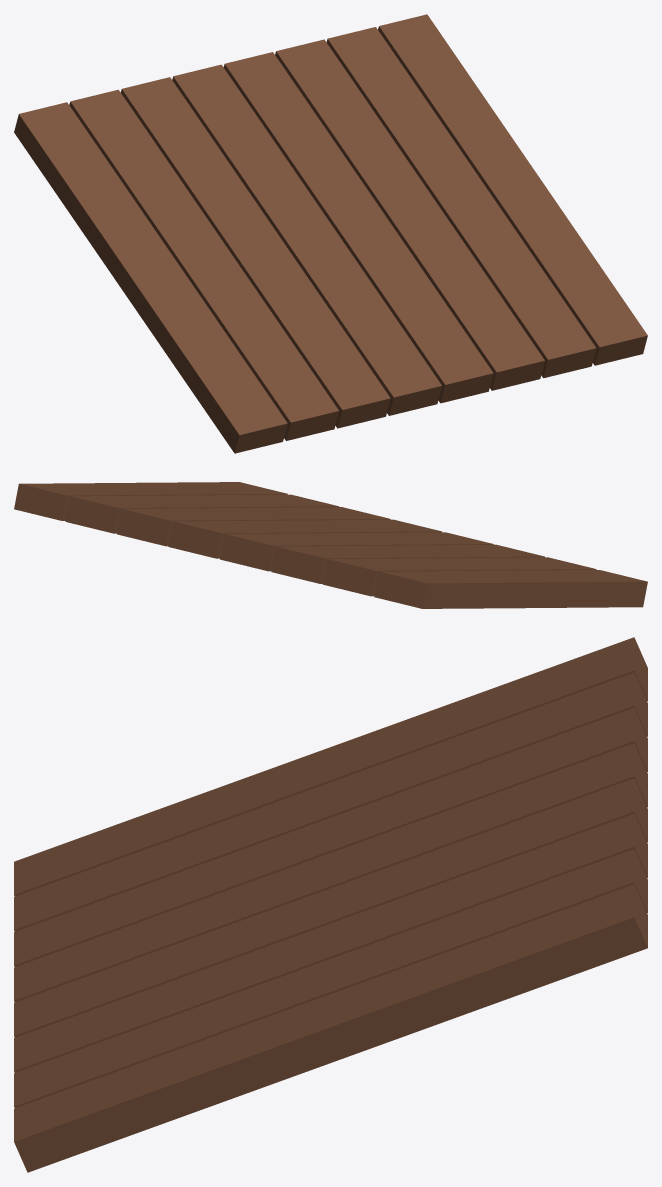
Rendered from wood_roof.glb.
3 renders of one model, top to bottom at view 1: azimuth 30°, elevation 25°; view 2: azimuth 150°, elevation 25°; view 3: azimuth 270°, elevation 25°, orthographic. The views are drawn at different scales.
Parts seen in each view (by area): view 1: wood_roof; view 2: wood_roof; view 3: wood_roof.
Boxes of the visible parts, x1=… form: wood_roof: x1=14, y1=14, x2=647, y2=453; wood_roof: x1=14, y1=482, x2=647, y2=608; wood_roof: x1=14, y1=637, x2=647, y2=1172.
Bounding box in the file's own units: 1.98 × 0.844 × 1.9.
